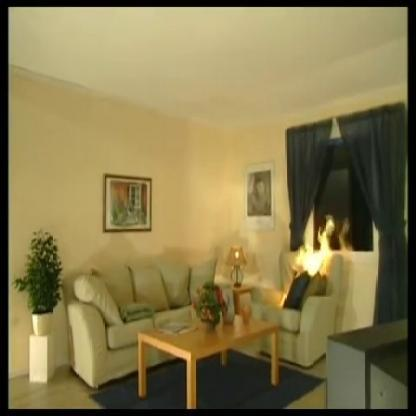fire: (290, 220, 346, 291)
